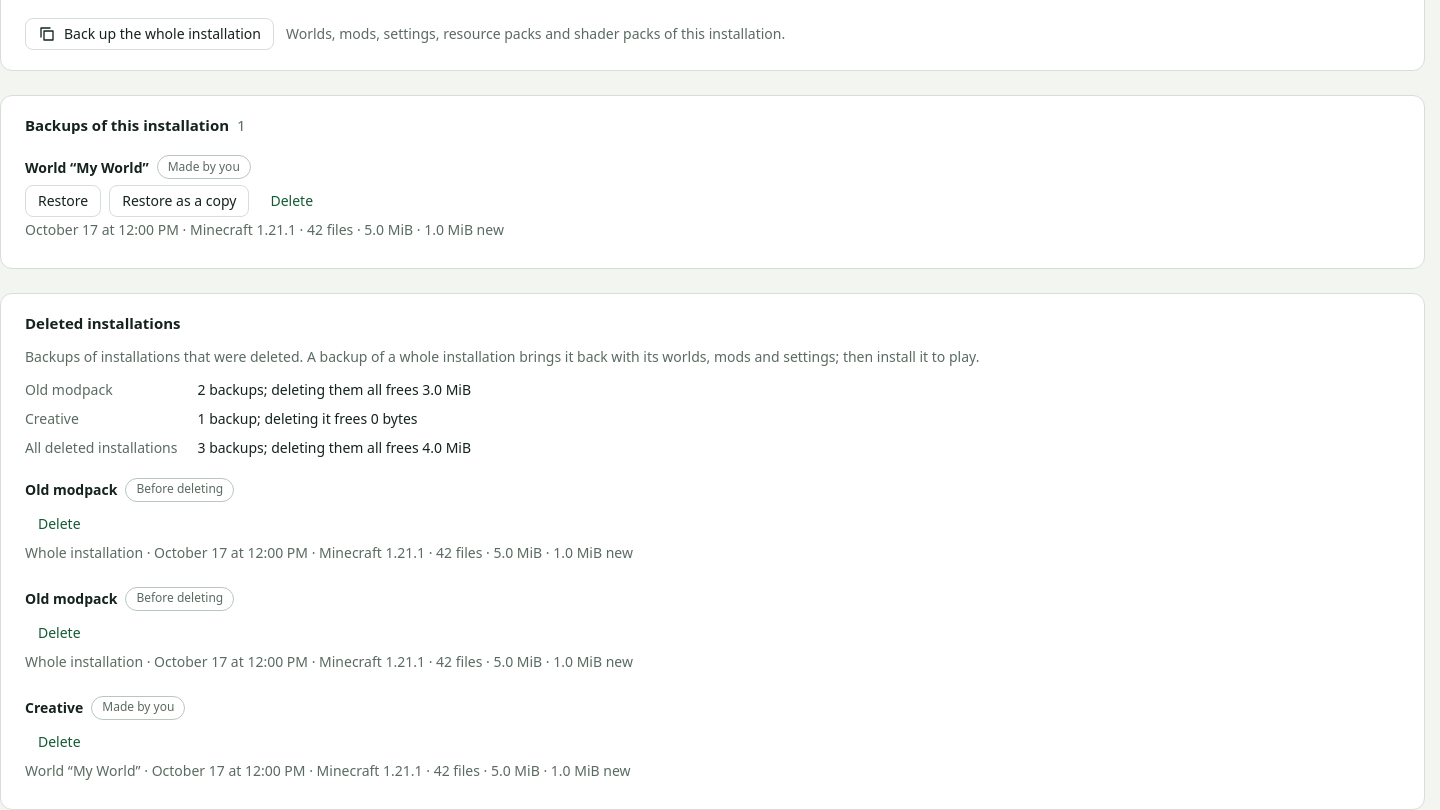
BackupsView › says what deleting the backups of each deleted installation frees
This screenshot has width=1440, height=810.
(page scrolled)
Click the 4th button "Delete".
click(59, 742)  # box top-left (25, 726), bottom-right (94, 758)
(page scrolled)
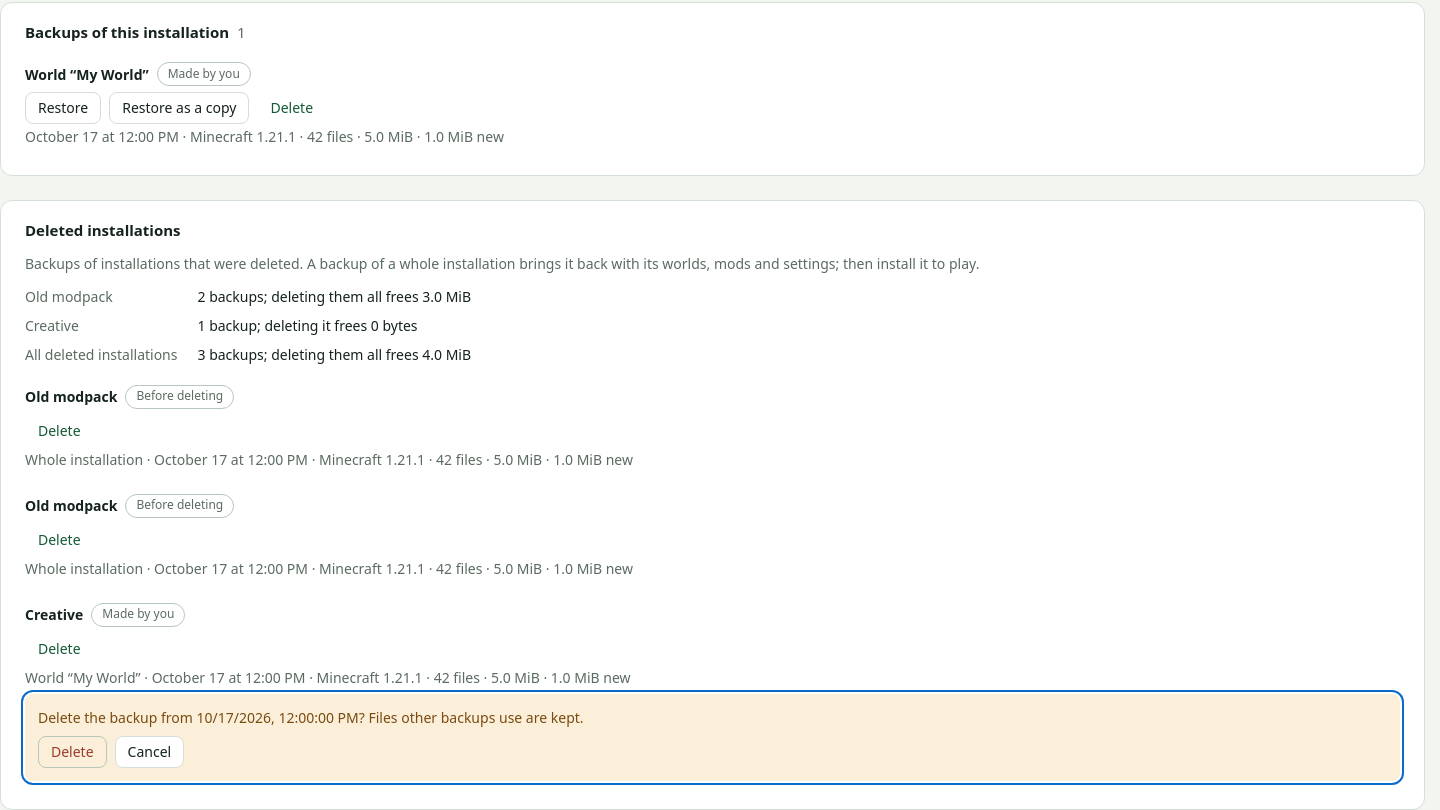
Click the 5th button "Delete".
click(72, 752)  # box top-left (38, 736), bottom-right (107, 768)
(page scrolled)
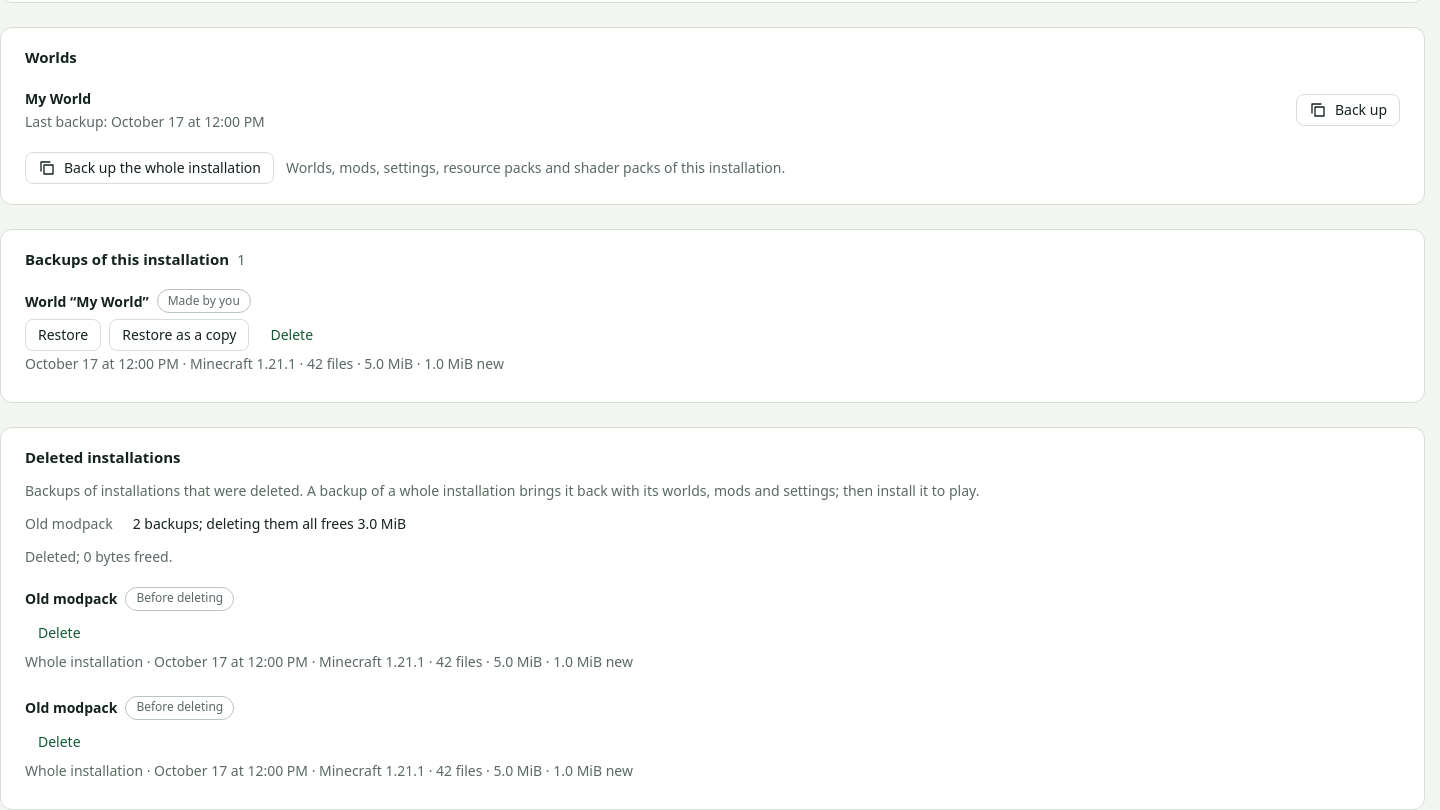
Expected: the text "2 backups; deleting them all frees 3.0 MiB" is shown, top-left (133, 514), bottom-right (406, 532)
Now the text "1 backup;" is gone
Now the text "All deleted installations" is gone
